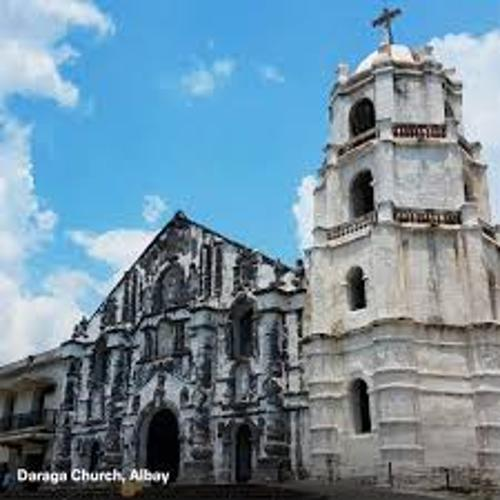Daraga Church: (82, 5, 500, 477)
